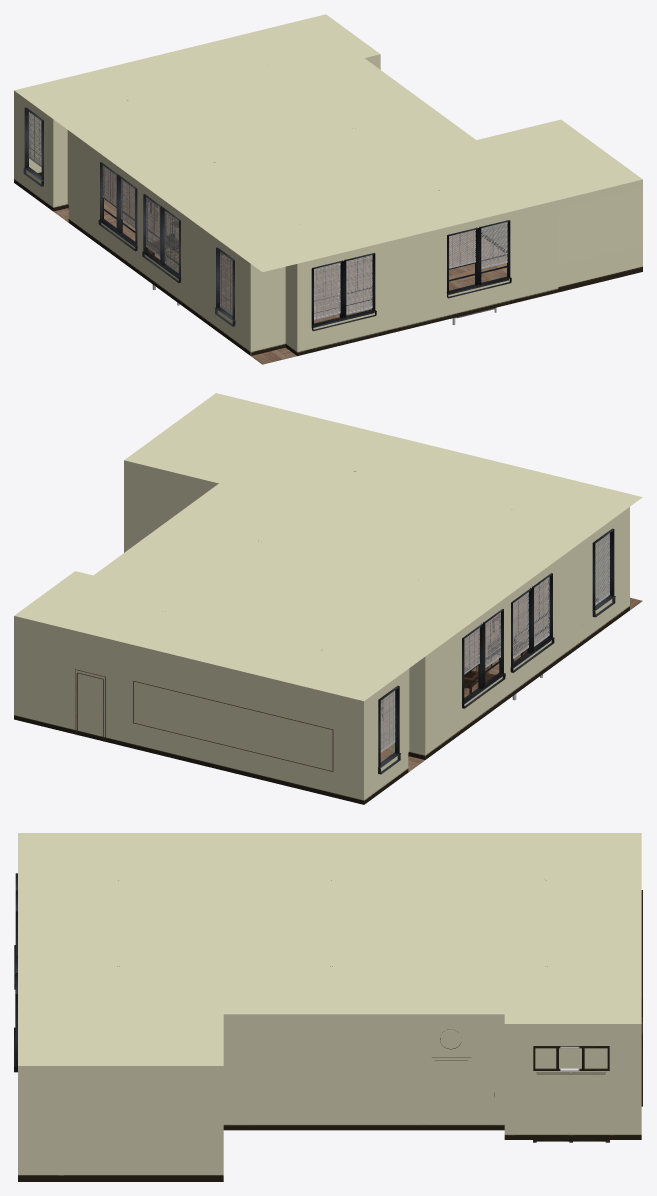
File: AlyssasSewingRoom.fbx
3 renders of one model, top to bottom at view 1: azimuth 30°, elevation 25°; view 2: azimuth 150°, elevation 25°; view 3: azimuth 270°, elevation 25°, orthographic. The views are drawn at different scales.
Visible parts, largest first — view 1: ceiling, walls, floor1, blinds (×4), blinds2, blinds1, blinds3, singleWindowBlinds, blinds4, singleWindowFrame, windowFrame18, windowBase8; view 2: ceiling, walls, floor1, blinds (×3), singleWindowFrame (×2), blinds3, singleWindowBlinds, blinds4, chalkBoard; view 3: ceiling, walls, sdoubleDoorThreeWindows:polySurface104.
Boxes of the visible parts, bbox=[...] form: ceiling: bbox=[14, 14, 642, 272]; walls: bbox=[14, 54, 642, 355]; floor1: bbox=[53, 168, 506, 364]; blinds (×4): bbox=[164, 211, 507, 319]; blinds2: bbox=[346, 255, 372, 314]; blinds1: bbox=[449, 230, 475, 268]; blinds3: bbox=[146, 197, 160, 256]; singleWindowBlinds: bbox=[28, 112, 41, 167]; blinds4: bbox=[121, 179, 135, 228]; singleWindowFrame: bbox=[24, 107, 43, 180]; windowFrame18: bbox=[478, 220, 510, 284]; windowBase8: bbox=[343, 253, 375, 317]; ceiling: bbox=[14, 393, 642, 700]; walls: bbox=[14, 460, 629, 804]; floor1: bbox=[380, 578, 642, 772]; blinds (×3): bbox=[464, 533, 609, 674]; singleWindowFrame (×2): bbox=[378, 528, 614, 767]; blinds3: bbox=[513, 592, 528, 658]; singleWindowBlinds: bbox=[380, 691, 395, 752]; blinds4: bbox=[485, 612, 500, 667]; chalkBoard: bbox=[133, 681, 333, 771]; ceiling: bbox=[18, 833, 641, 1065]; walls: bbox=[18, 1014, 641, 1181]; sdoubleDoorThreeWindows:polySurface104: bbox=[533, 1046, 609, 1070].
Bounding box in the file's own units: 18.8 × 4.71 × 21.3.
